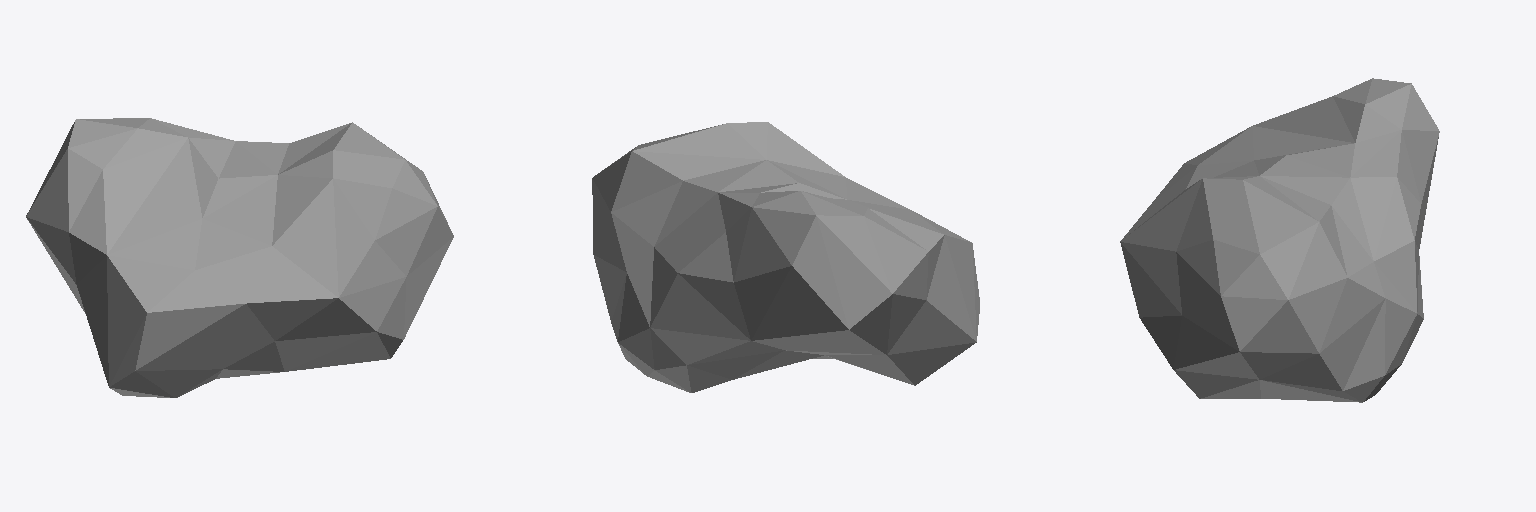
3 renders of one model, left to right at view 1: azimuth 30°, elevation 25°; view 2: azimuth 150°, elevation 25°; view 3: azimuth 270°, elevation 25°, orthographic.
Parts seen in each view (by area): view 1: rock; view 2: rock; view 3: rock.
Boxes of the visible parts, x1,y1,x2,y2 form: rock: [26, 118, 453, 397]; rock: [592, 122, 979, 392]; rock: [1120, 78, 1439, 402].
Bounding box in the file's own units: 1.23 × 0.7719 × 0.9584.